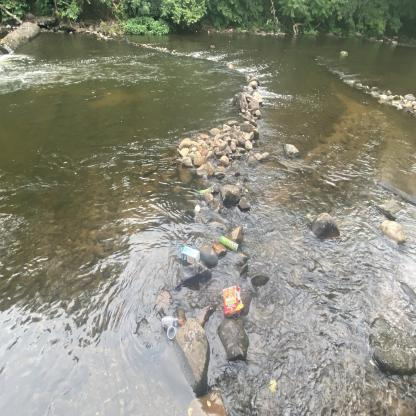trash: (222, 284, 245, 317), (178, 244, 202, 266), (219, 235, 240, 254), (160, 315, 184, 329), (166, 324, 179, 340), (198, 185, 214, 196), (192, 203, 202, 216), (194, 236, 204, 248)
